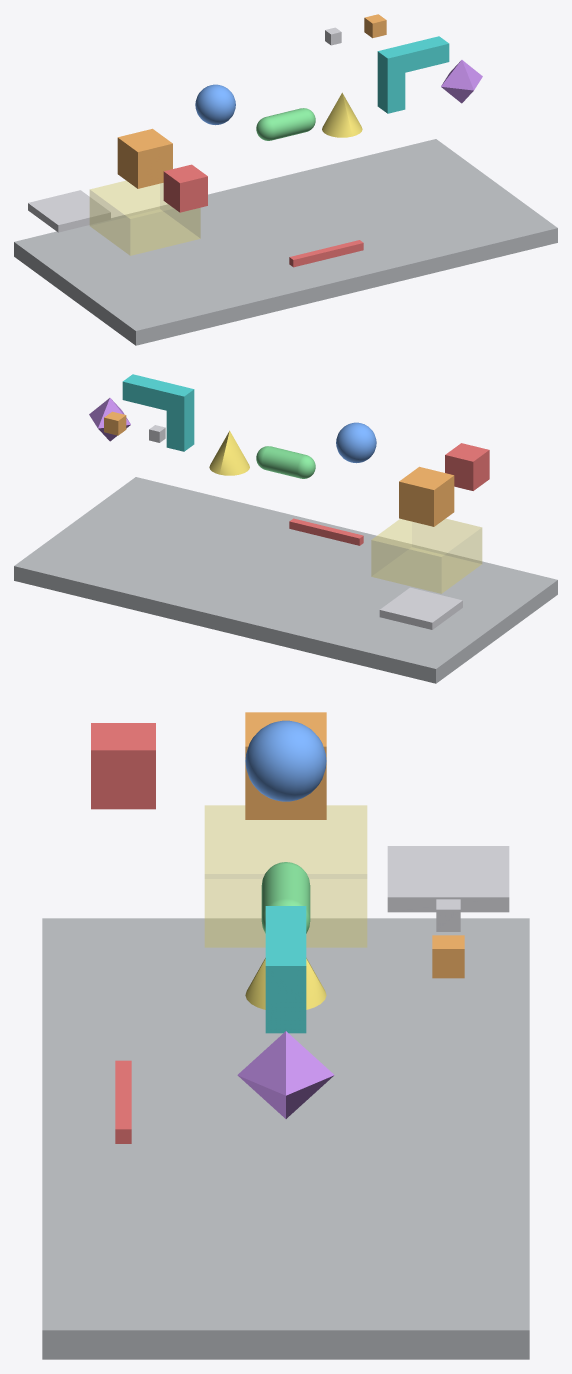
File: physics_scene.gltf
3 views of the same model, one above another, from view 1: azimuth 30°, elevation 25°; view 2: azimuth 150°, elevation 25°; view 3: azimuth 270°, elevation 25° (orthographic). The views are drawn at different scales.
Visible parts, largest first — view 1: ground, trigger_zone, box_drop, platform, ghost, compound_a, capsule, compound_b, ball_bouncy, cone, convex, sweeper (+1 smaller); view 2: ground, trigger_zone, box_drop, platform, ghost, compound_a, compound_b, capsule, ball_bouncy, cone, sweeper, convex (+1 smaller); view 3: ground, trigger_zone, platform, ghost, ball_bouncy, convex, box_drop, compound_b, capsule, compound_a, bob, sweeper (+2 smaller).
Part boxes in pixels (<box>): ground: <box>14,139,557,345</box>; trigger_zone: <box>90,181,200,255</box>; box_drop: <box>117,128,172,188</box>; platform: <box>28,190,110,232</box>; ghost: <box>163,164,207,212</box>; compound_a: <box>377,47,405,113</box>; capsule: <box>256,108,315,140</box>; compound_b: <box>387,36,449,72</box>; ball_bouncy: <box>195,84,235,125</box>; cone: <box>322,92,362,137</box>; convex: <box>441,60,482,103</box>; sweeper: <box>289,240,363,267</box>; ground: <box>14,477,557,683</box>; trigger_zone: <box>371,519,481,593</box>; box_drop: <box>399,466,454,526</box>; platform: <box>379,587,462,629</box>; ghost: <box>445,443,489,490</box>; compound_a: <box>166,385,194,451</box>; compound_b: <box>122,374,184,412</box>; capsule: <box>256,446,315,478</box>; ball_bouncy: <box>336,422,376,463</box>; cone: <box>209,430,249,475</box>; sweeper: <box>289,518,363,545</box>; convex: <box>89,398,130,441</box>; ground: <box>42,918,529,1359</box>; trigger_zone: <box>205,805,366,947</box>; platform: <box>387,846,509,912</box>; ghost: <box>91,723,155,809</box>; ball_bouncy: <box>245,720,326,801</box>; convex: <box>237,1031,334,1118</box>; box_drop: <box>245,712,326,819</box>; compound_b: <box>265,914,306,1002</box>; capsule: <box>261,862,310,933</box>; compound_a: <box>265,906,306,1033</box>; bob: <box>432,935,464,978</box>; sweeper: <box>115,1060,131,1143</box>.
Size of the model in its own units: 12 by 4.9 by 6.
